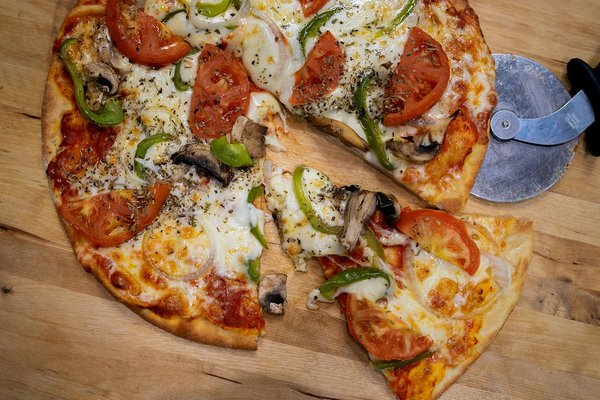curry: (29, 0, 599, 394)
sandwich: (45, 0, 553, 385)
